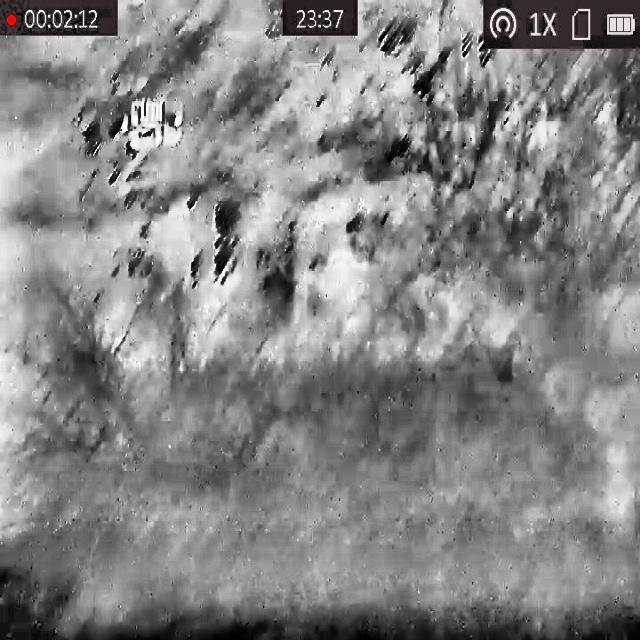drone: (119, 97, 184, 149)
